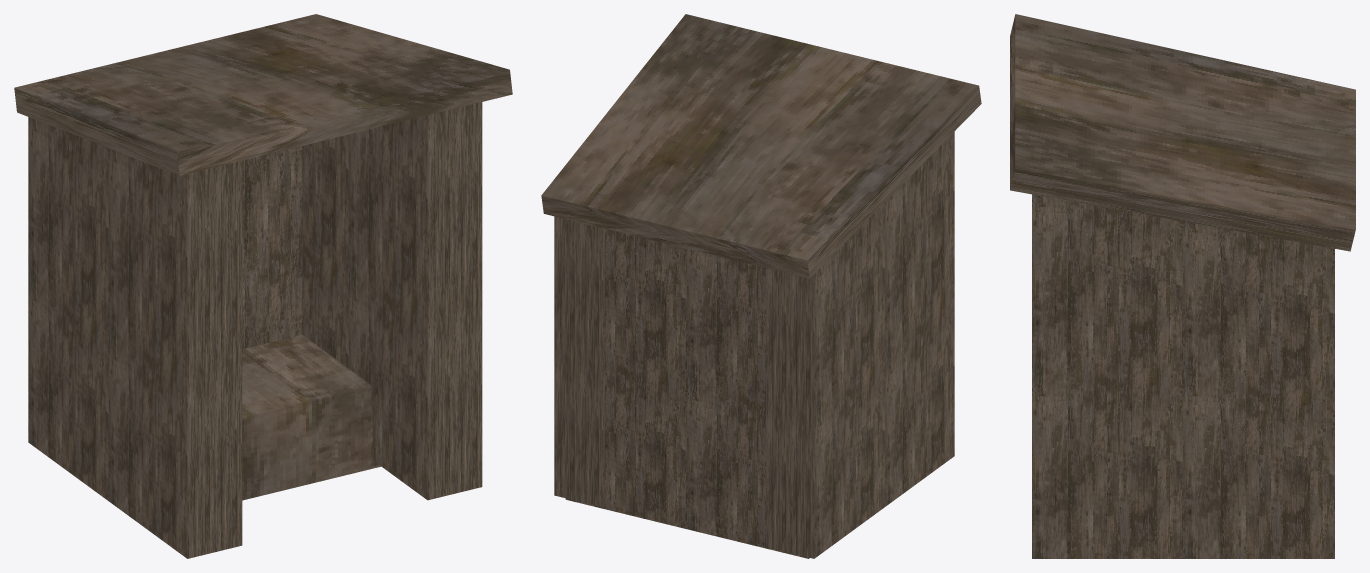
The model's file is shack.glb.
3 views of the same model, side by side, from view 1: azimuth 30°, elevation 25°; view 2: azimuth 150°, elevation 25°; view 3: azimuth 270°, elevation 25° (orthographic). The views are drawn at different scales.
Parts seen in each view (by area): view 1: Cabin; view 2: Cabin; view 3: Cabin.
Boxes of the visible parts, x1=… form: Cabin: x1=14, y1=14, x2=512, y2=558; Cabin: x1=541, y1=14, x2=981, y2=558; Cabin: x1=1010, y1=14, x2=1355, y2=558.
Bounding box in the file's own units: 3.69 × 4.53 × 3.49.
Materials: 2 (2 with a texture image).
